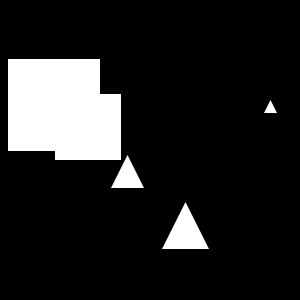circle: (8, 59, 100, 151), (55, 94, 121, 160)
triangle: (162, 202, 209, 249), (111, 155, 144, 188), (264, 100, 277, 113)
